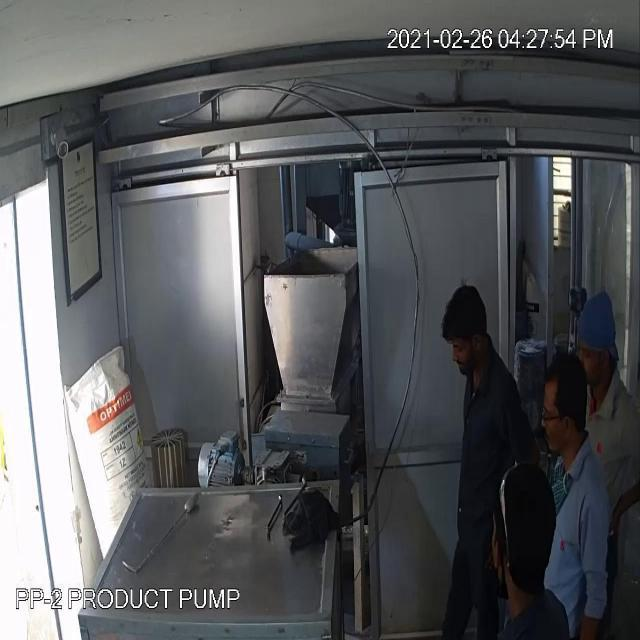no hat: (435, 279, 493, 358), (538, 352, 592, 432), (572, 289, 622, 366)
